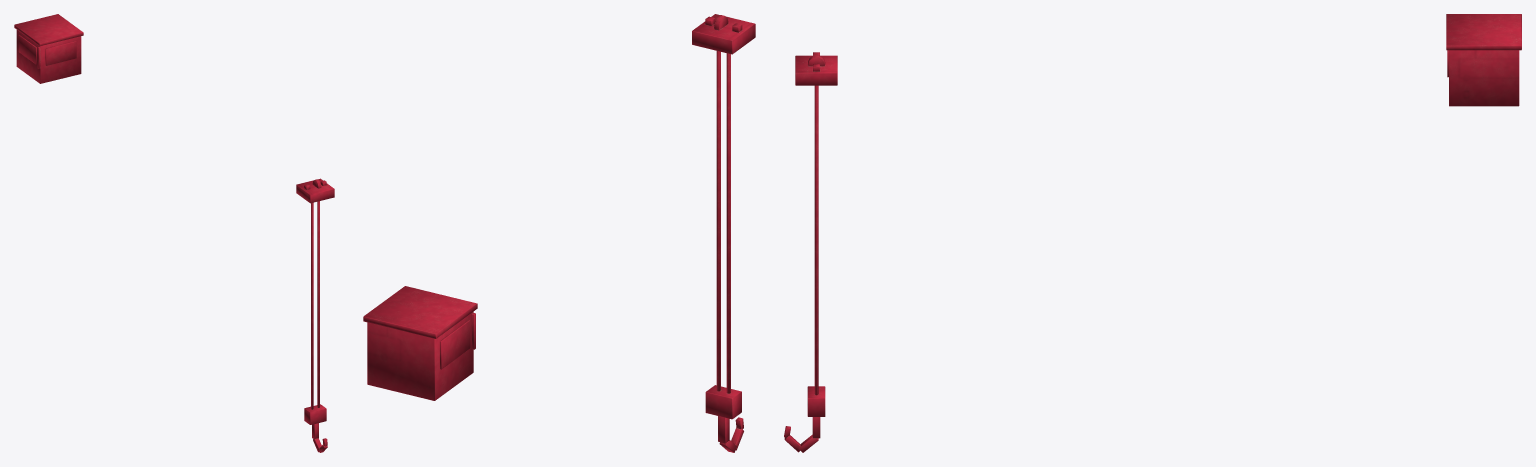
The model's file is Grua_Cabina.fbx.
3 views of the same model, side by side, from view 1: azimuth 30°, elevation 25°; view 2: azimuth 150°, elevation 25°; view 3: azimuth 270°, elevation 25° (orthographic). The views are drawn at different scales.
Parts seen in each view (by area): view 1: Grua_Cabina; view 2: Grua_Cabina; view 3: Grua_Cabina.
Part boxes in pixels (<box>): Grua_Cabina: <box>14,14,334,452</box>; Grua_Cabina: <box>363,14,755,452</box>; Grua_Cabina: <box>784,14,1521,452</box>.
Bounding box in the file's own units: 7.35 × 24.91 × 41.99.
